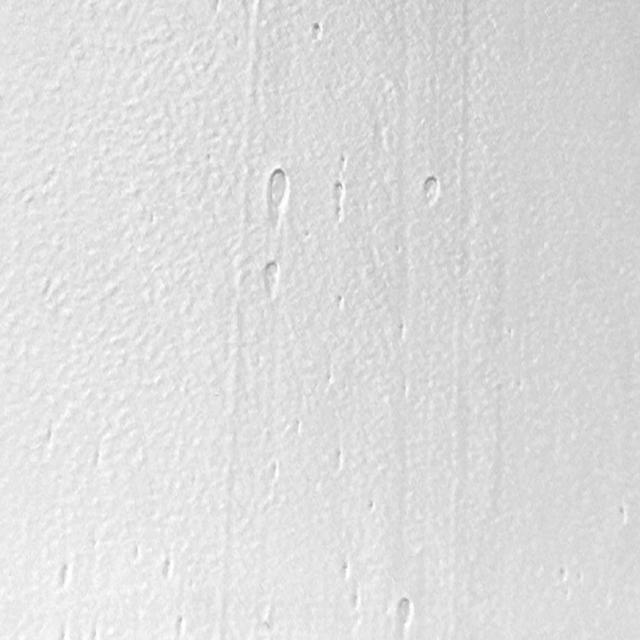pin holes: (264, 168, 291, 217), (259, 258, 283, 296), (392, 595, 415, 632), (419, 174, 444, 208), (327, 179, 347, 219), (55, 563, 76, 592), (157, 557, 177, 583), (330, 447, 348, 473), (614, 503, 633, 527), (174, 615, 192, 638), (266, 459, 282, 483), (348, 589, 361, 612), (310, 22, 324, 42), (340, 562, 353, 582), (556, 566, 569, 585), (334, 295, 347, 311), (366, 499, 378, 516)
